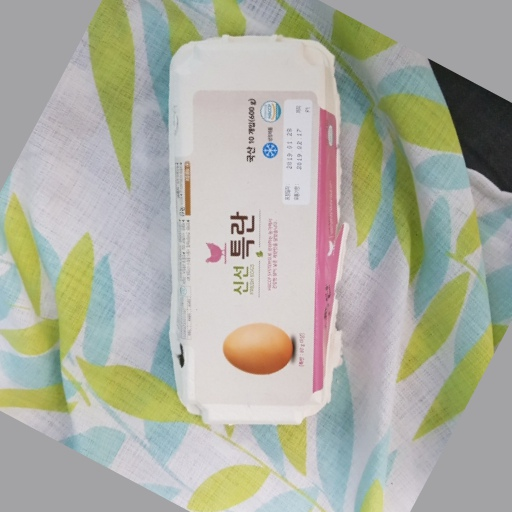Paper_0: (166, 30, 358, 427)
